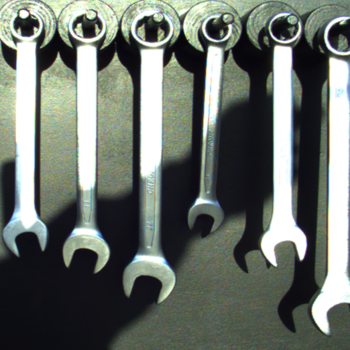bottom: (118, 252, 179, 305), (306, 276, 350, 339), (58, 226, 111, 276), (256, 219, 309, 268), (1, 216, 49, 256), (184, 196, 226, 234)
top: (128, 8, 175, 49), (65, 9, 109, 45), (317, 13, 350, 59), (264, 10, 304, 46), (7, 9, 45, 43), (197, 13, 235, 45)
